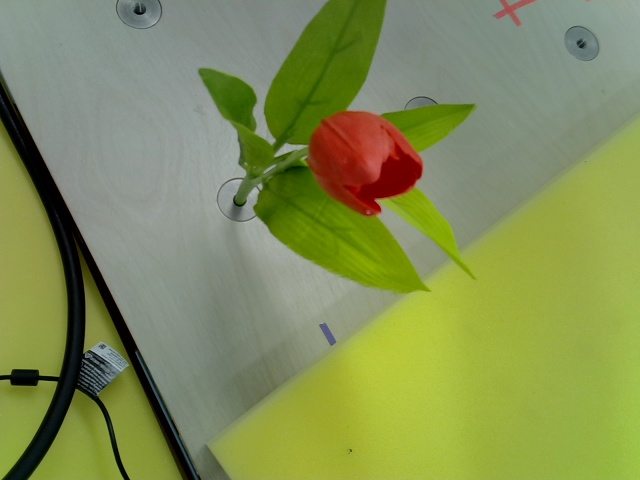튤립: (309, 111, 428, 217)
